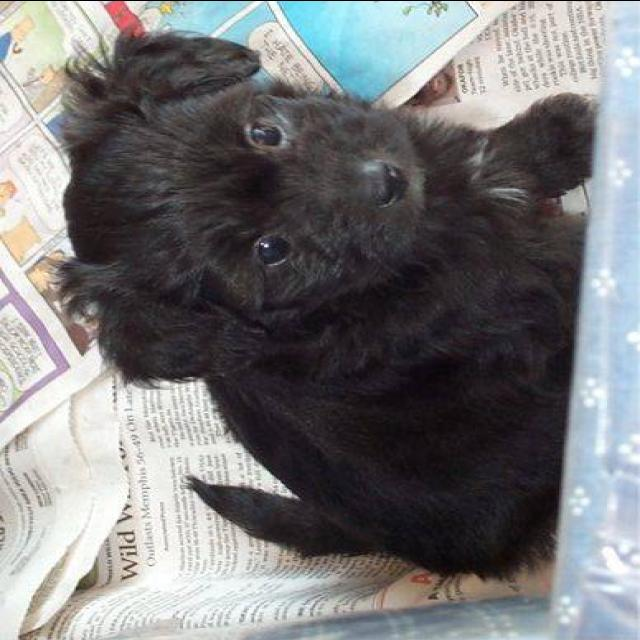dog: (24, 24, 610, 594)
